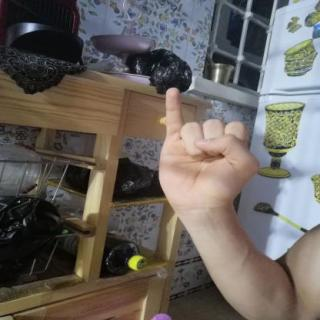MEEM: (136, 77, 272, 220)
